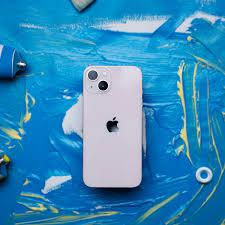Smartphone: (86, 63, 147, 195)
